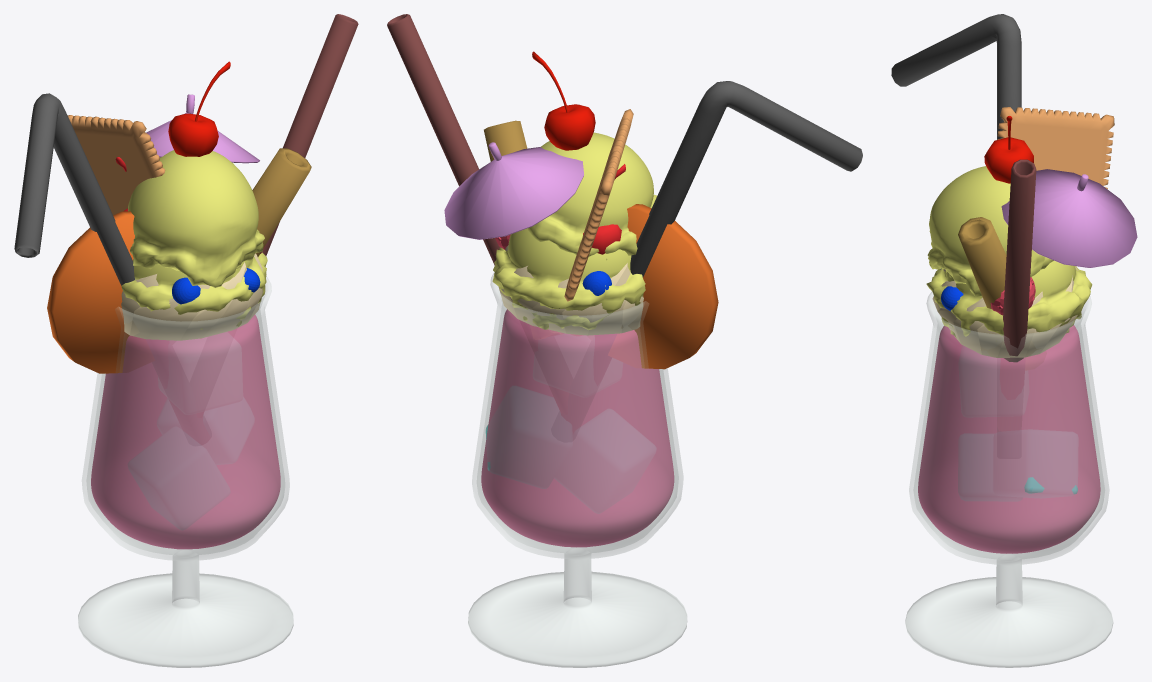
File: OB_TempDrink.fbx
3 renders of one model, left to right at view 1: azimuth 30°, elevation 25°; view 2: azimuth 150°, elevation 25°; view 3: azimuth 270°, elevation 25°, orthographic. The views are drawn at different scales.
Visible parts, largest first — view 1: glassGeo, glassContainGeo, iceCReamTwoGeo.001, lemonSlice.001, strawBendGeo.001, biscuitSquareGeo.001, whippedCreamGeo.001, strawGeo.002, biscuitStrawGeo.001, cherryOneGeo.002, littleUmbrellaGeo.001, blueBerryGeo.001; view 2: glassGeo, glassContainGeo, iceCReamTwoGeo.001, lemonSlice.001, strawBendGeo.001, littleUmbrellaGeo.001, strawGeo.002, whippedCreamGeo.001, biscuitSquareGeo.001, cherryOneGeo.002, biscuitStrawGeo.001; view 3: glassGeo, glassContainGeo, iceCReamTwoGeo.001, littleUmbrellaGeo.001, biscuitSquareGeo.001, strawBendGeo.001, strawGeo.002, whippedCreamGeo.001, biscuitStrawGeo.001, cherryOneGeo.002, blueBerryGeo.003.
Part boxes in pixels (x1,y1,x2,y2): glassGeo: (78,277,293,667); glassContainGeo: (91,315,280,549); iceCReamTwoGeo.001: (121,150,267,329); lemonSlice.001: (47,211,134,373); strawBendGeo.001: (14,93,134,285); biscuitSquareGeo.001: (67,115,165,215); whippedCreamGeo.001: (121,253,263,340); strawGeo.002: (262,14,358,255); biscuitStrawGeo.001: (252,148,311,256); cherryOneGeo.002: (168,61,230,156); littleUmbrellaGeo.001: (146,94,259,163); blueBerryGeo.001: (172,277,200,304); glassGeo: (468,272,687,667); glassContainGeo: (481,309,674,547); iceCReamTwoGeo.001: (492,132,656,329); lemonSlice.001: (627,204,718,369); strawBendGeo.001: (630,81,862,277); littleUmbrellaGeo.001: (444,142,583,239); strawGeo.002: (387,14,499,265); whippedCreamGeo.001: (498,245,643,335); biscuitSquareGeo.001: (564,109,633,301); cherryOneGeo.002: (532,51,595,150); biscuitStrawGeo.001: (484,120,527,161); glassGeo: (905,292,1113,667); glassContainGeo: (918,325,1100,553); iceCReamTwoGeo.001: (926,166,1092,341); littleUmbrellaGeo.001: (1001,169,1137,267); biscuitSquareGeo.001: (997,107,1114,188); strawBendGeo.001: (891,14,1021,139); strawGeo.002: (1003,159,1036,362); whippedCreamGeo.001: (932,266,1078,357); biscuitStrawGeo.001: (958,217,1006,308); cherryOneGeo.002: (984,116,1033,183); blueBerryGeo.003: (941,286,963,310).
Size of the model in its own units: 21.53 by 28.73 by 11.83.
